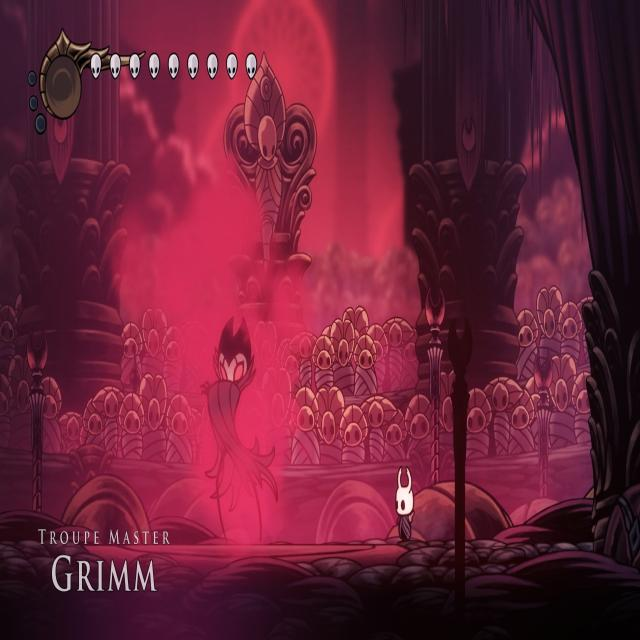Dash Uppercut: (194, 303, 282, 541)
Player: (392, 460, 416, 546)
